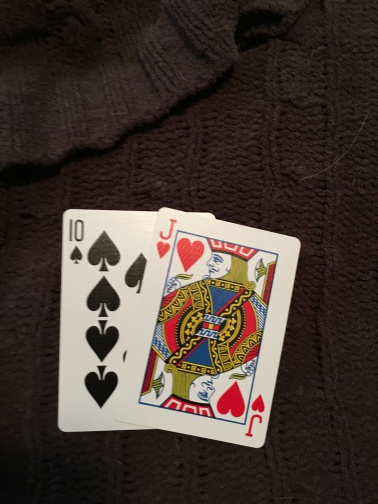jack: (118, 205, 302, 449)
ten: (61, 206, 149, 436)
